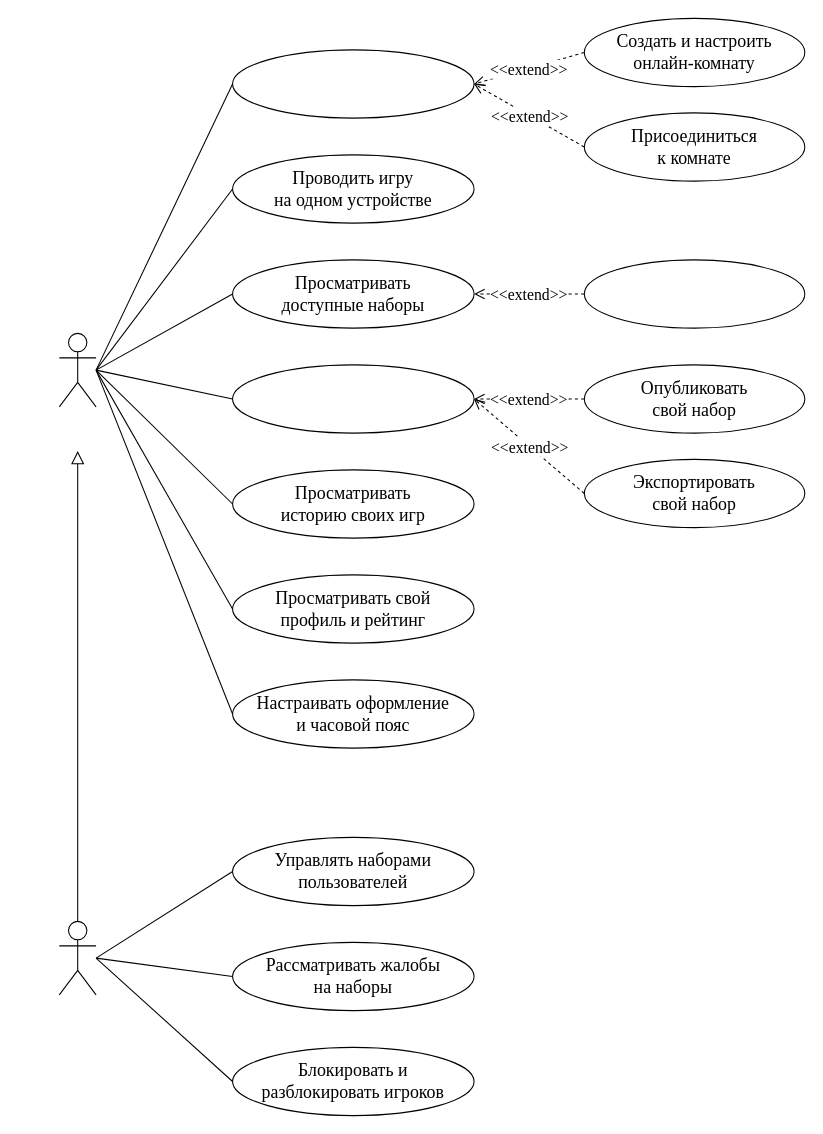
The diagram is 823 pixels wide and 1134 high, and some of its shapes have lost their labels. The centre of each missing label's shape, as x and y in pixels:
"Администратор" goes at [77,957].
"Добавить набор в избранное" goes at [694,293].
"Играть онлайн" goes at [353,83].
"Пользователь" goes at [77,369].
"Создавать и изменять свои наборы слов" goes at [353,398].
